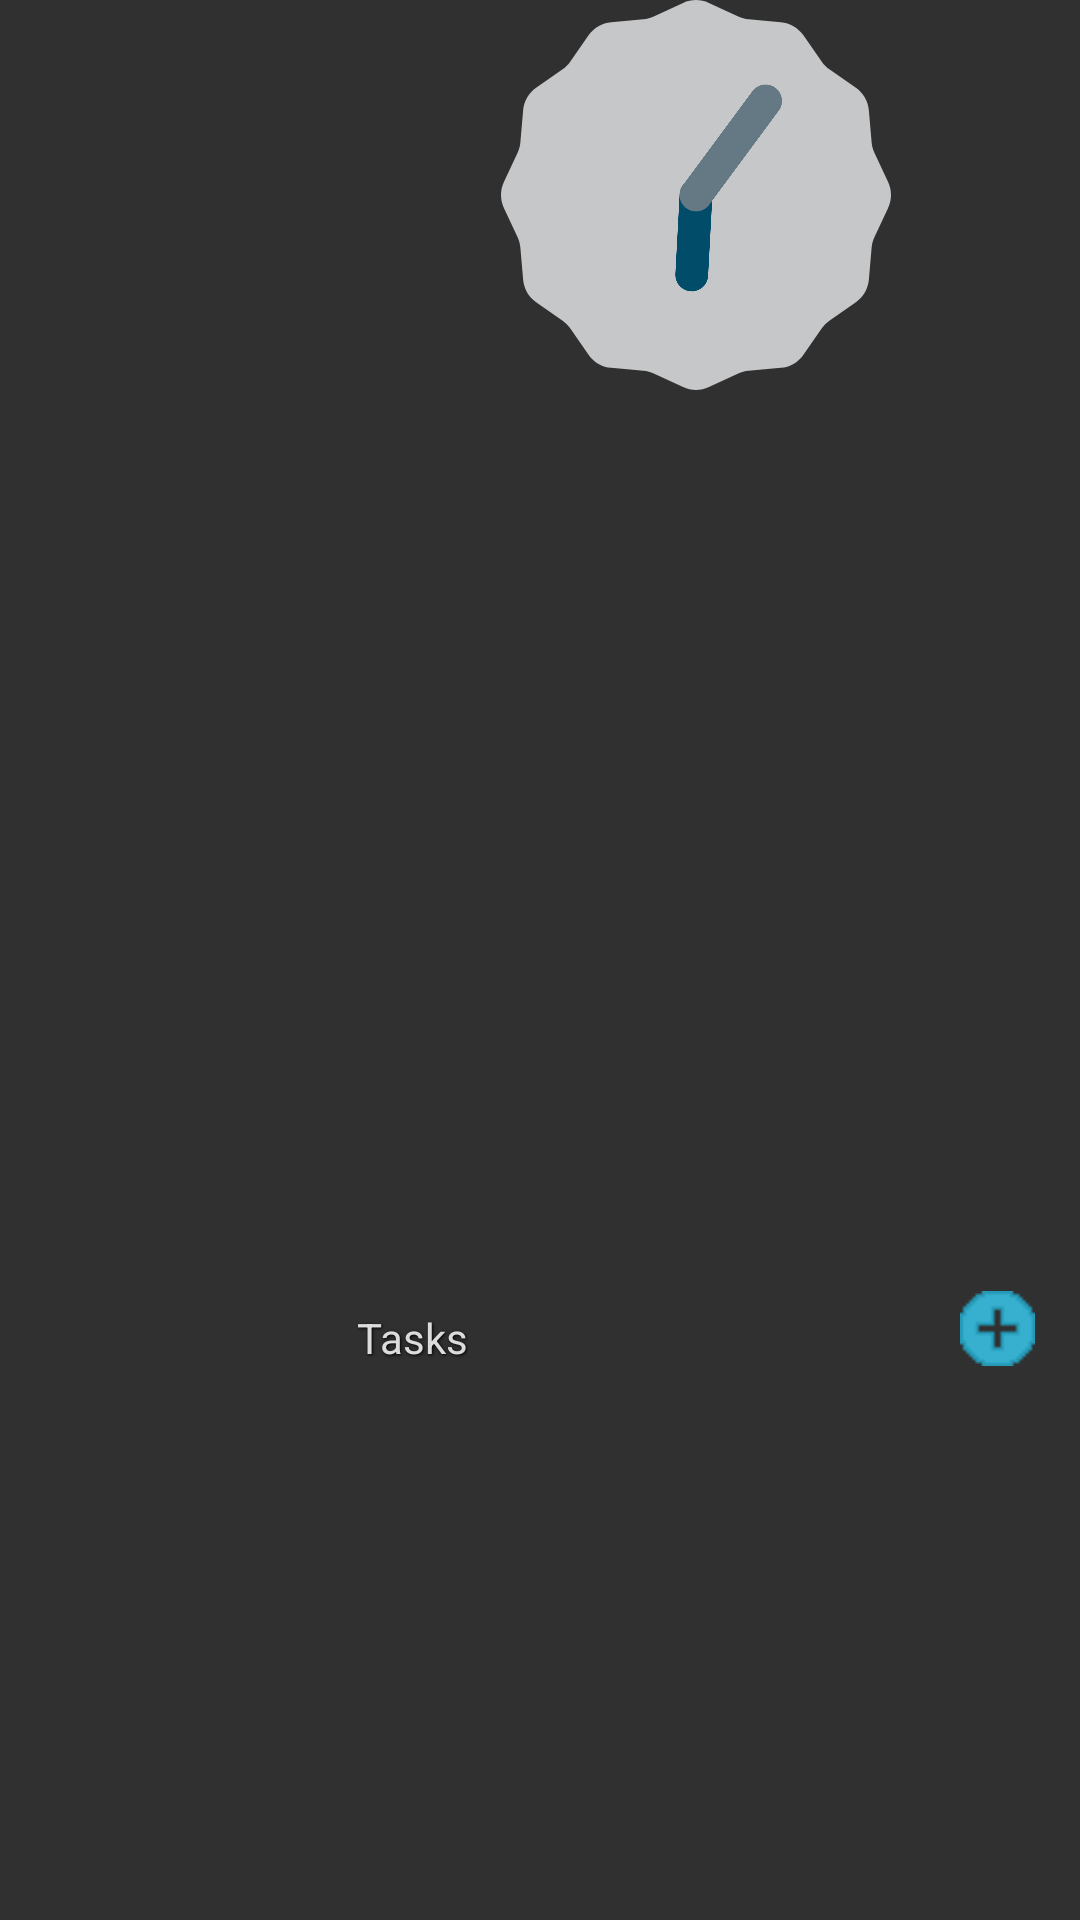

Where to tap for icons on this 1080px×1920px app screen, as (x,y):
add: (997,1328)
